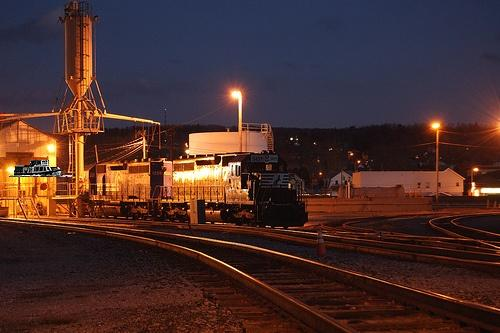tampered: (10, 161, 72, 177)
